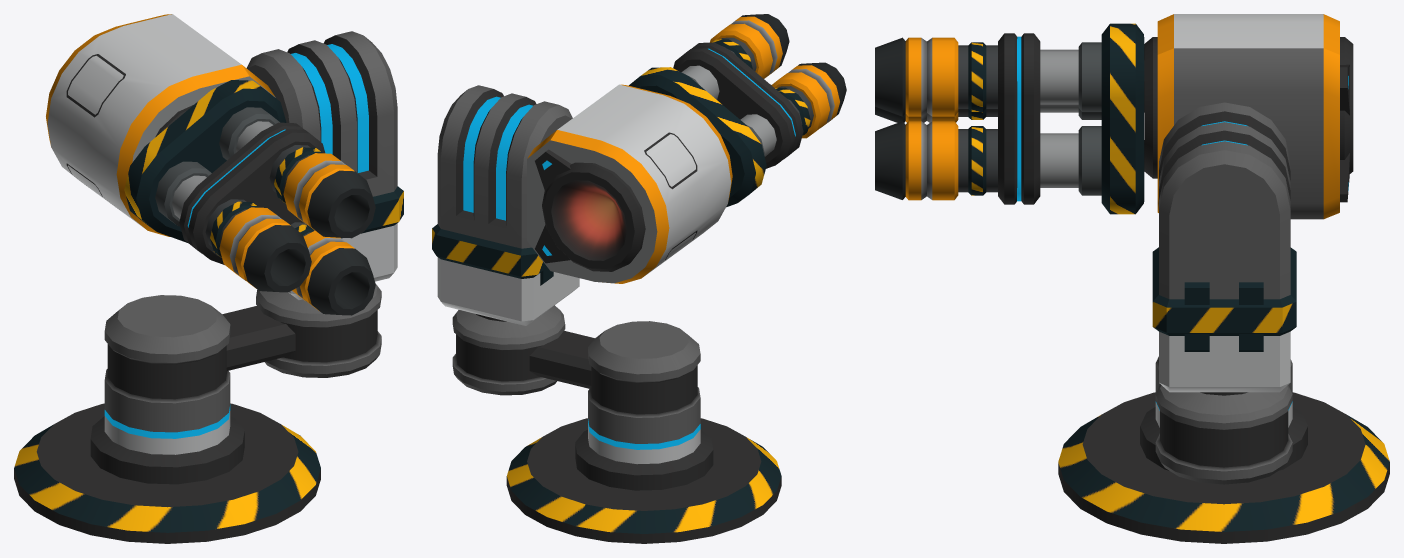
The model's file is Turret_003.glb.
3 renders of one model, left to right at view 1: azimuth 30°, elevation 25°; view 2: azimuth 150°, elevation 25°; view 3: azimuth 270°, elevation 25°, orthographic. The views are drawn at different scales.
Parts seen in each view (by area): view 1: Turret_003, Turret_003_barrel_001, Turret_003_body_001, Turret_003_body_002; view 2: Turret_003, Turret_003_body_001, Turret_003_body_002, Turret_003_barrel_001; view 3: Turret_003_barrel_001, Turret_003, Turret_003_body_002, Turret_003_body_001.
Part boxes in pixels (x1,y1,x2,y2): Turret_003: [14, 283, 381, 543]; Turret_003_barrel_001: [124, 80, 375, 315]; Turret_003_body_001: [46, 14, 275, 236]; Turret_003_body_002: [246, 31, 403, 299]; Turret_003: [452, 305, 781, 543]; Turret_003_body_001: [527, 84, 732, 283]; Turret_003_body_002: [432, 85, 579, 325]; Turret_003_barrel_001: [629, 14, 846, 207]; Turret_003_barrel_001: [875, 23, 1144, 214]; Turret_003: [1058, 356, 1389, 543]; Turret_003_body_002: [1152, 102, 1296, 395]; Turret_003_body_001: [1144, 14, 1353, 219].
Size of the model in its own units: 2.05 by 2.42 by 2.46.
Materials: 2 (2 with a texture image).
